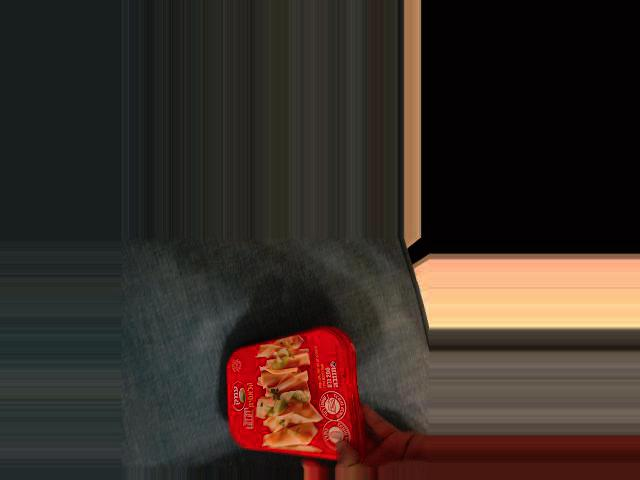cheese: (221, 326, 372, 463)
